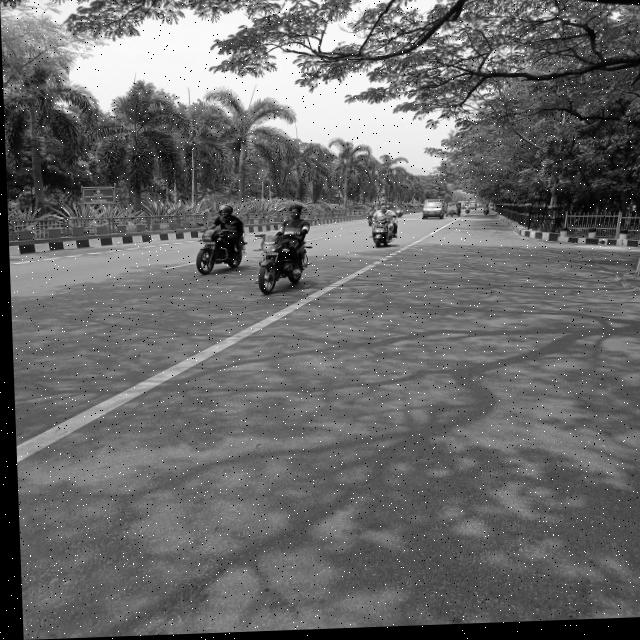bike: (252, 234, 321, 295), (194, 230, 251, 277), (366, 222, 399, 252), (393, 211, 402, 222), (480, 210, 488, 220), (463, 210, 469, 218)
car: (418, 203, 445, 226)
